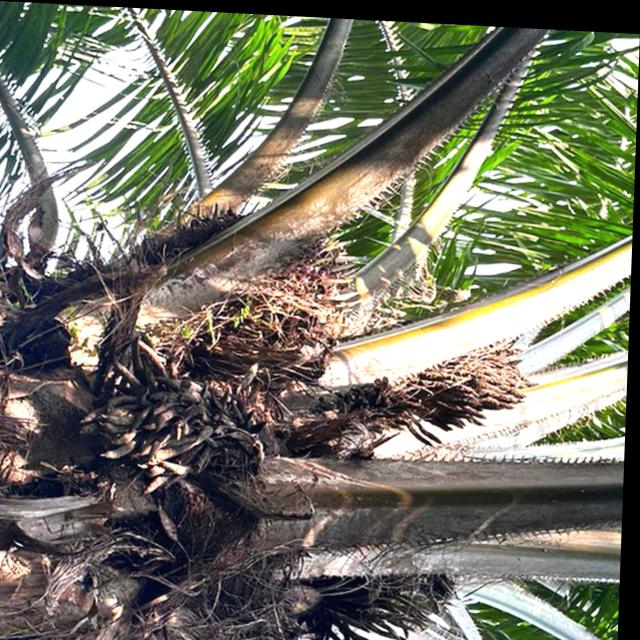ripe: (199, 239, 369, 385)
